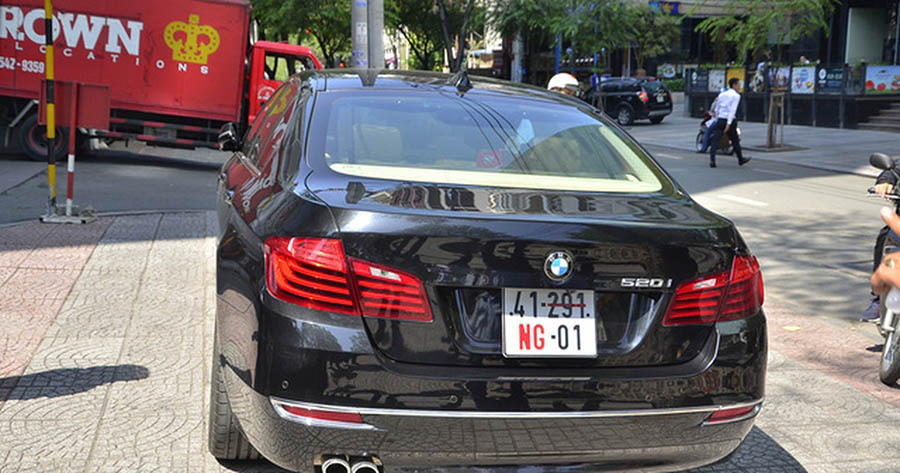number_plate: (501, 286, 595, 356)
